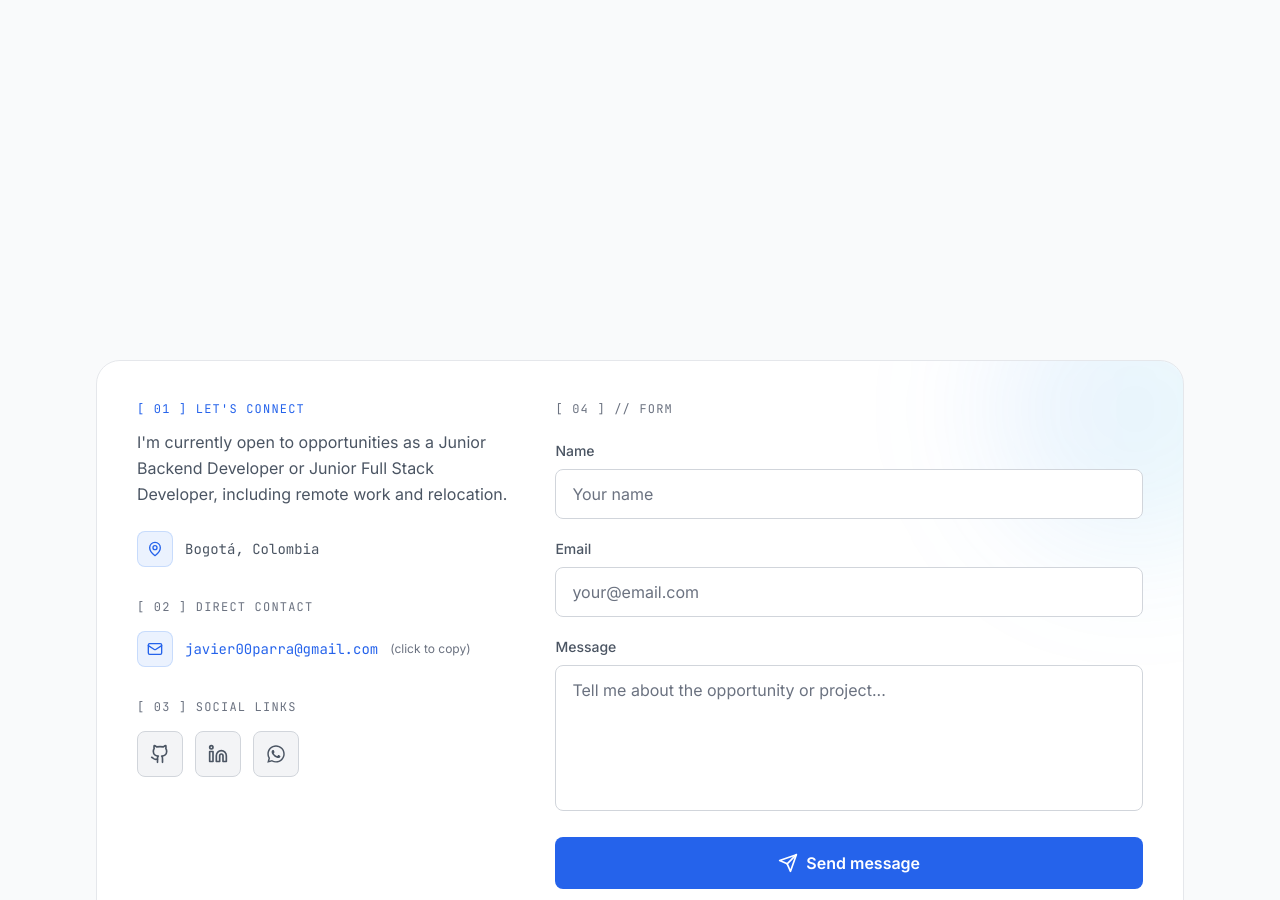
Contact › shows a confirmation state after submitting
Type "Ana" into the field labelled "Name".
click(849, 494); type("Ana")  # box [555,469,1143,519]
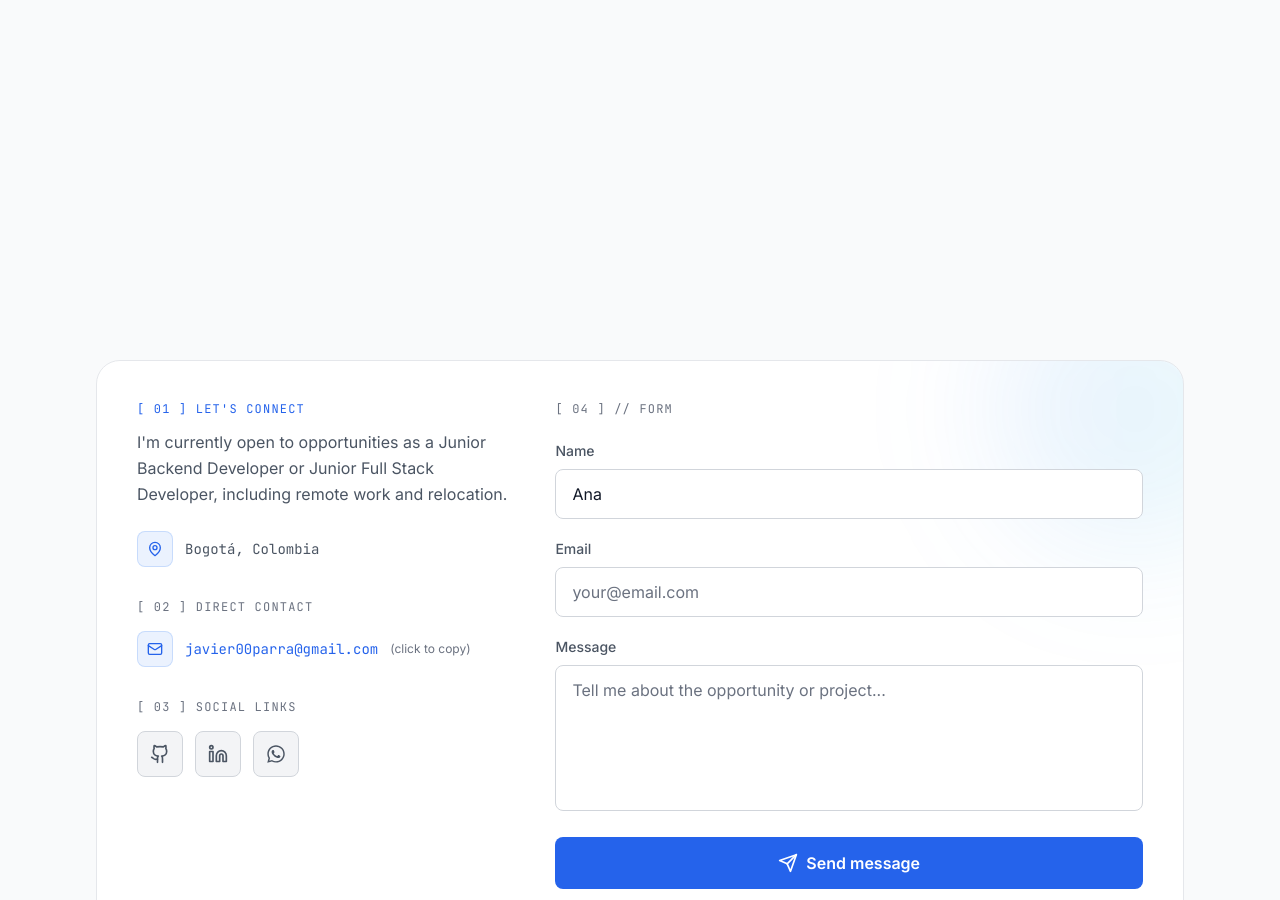
Type "ana@example.com" into the field labelled "Email".
click(849, 592); type("ana@example.com")  # box [555,567,1143,617]
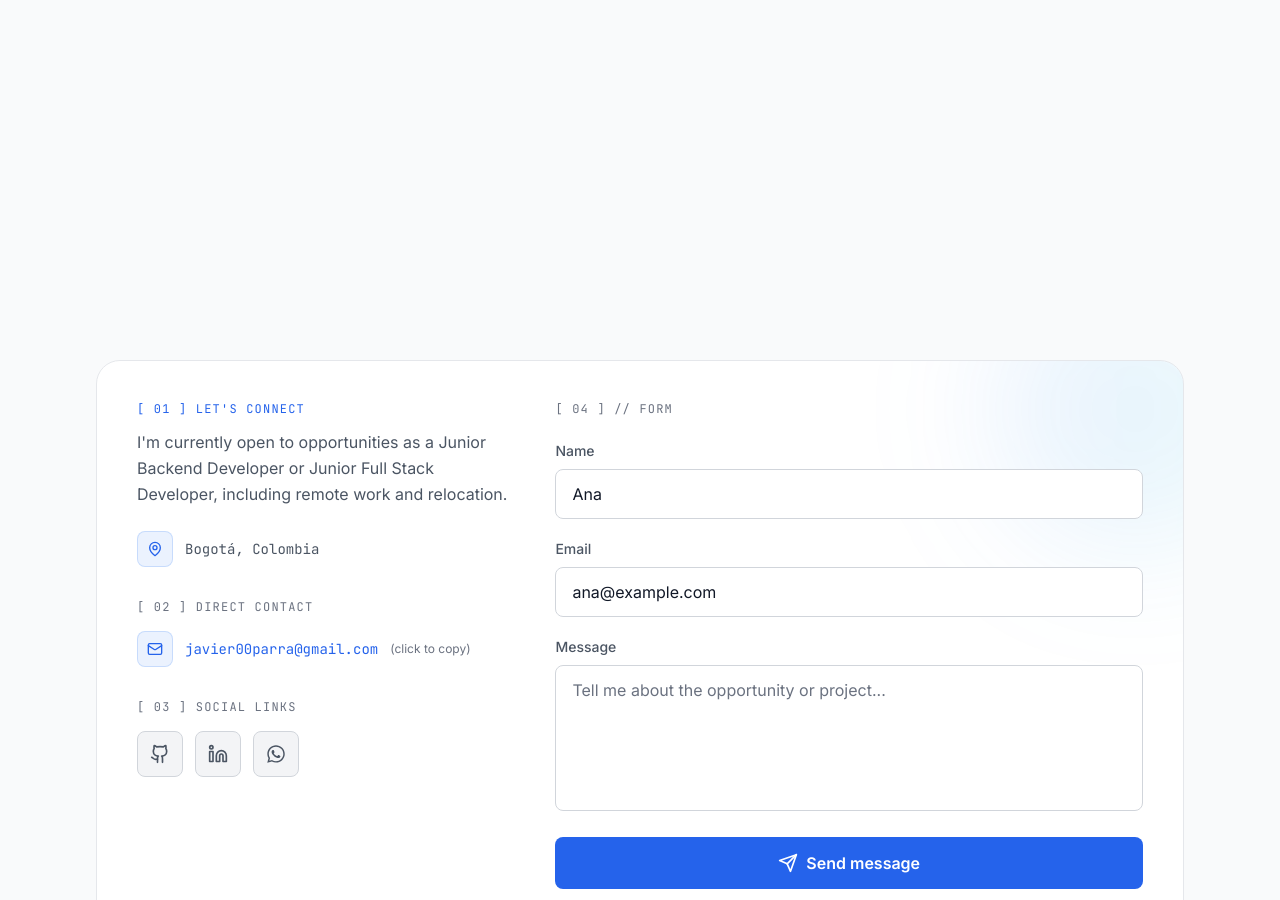
Type "Hola!" into the text box labelled "Message".
click(849, 738); type("Hola!")  # box [555,665,1143,811]
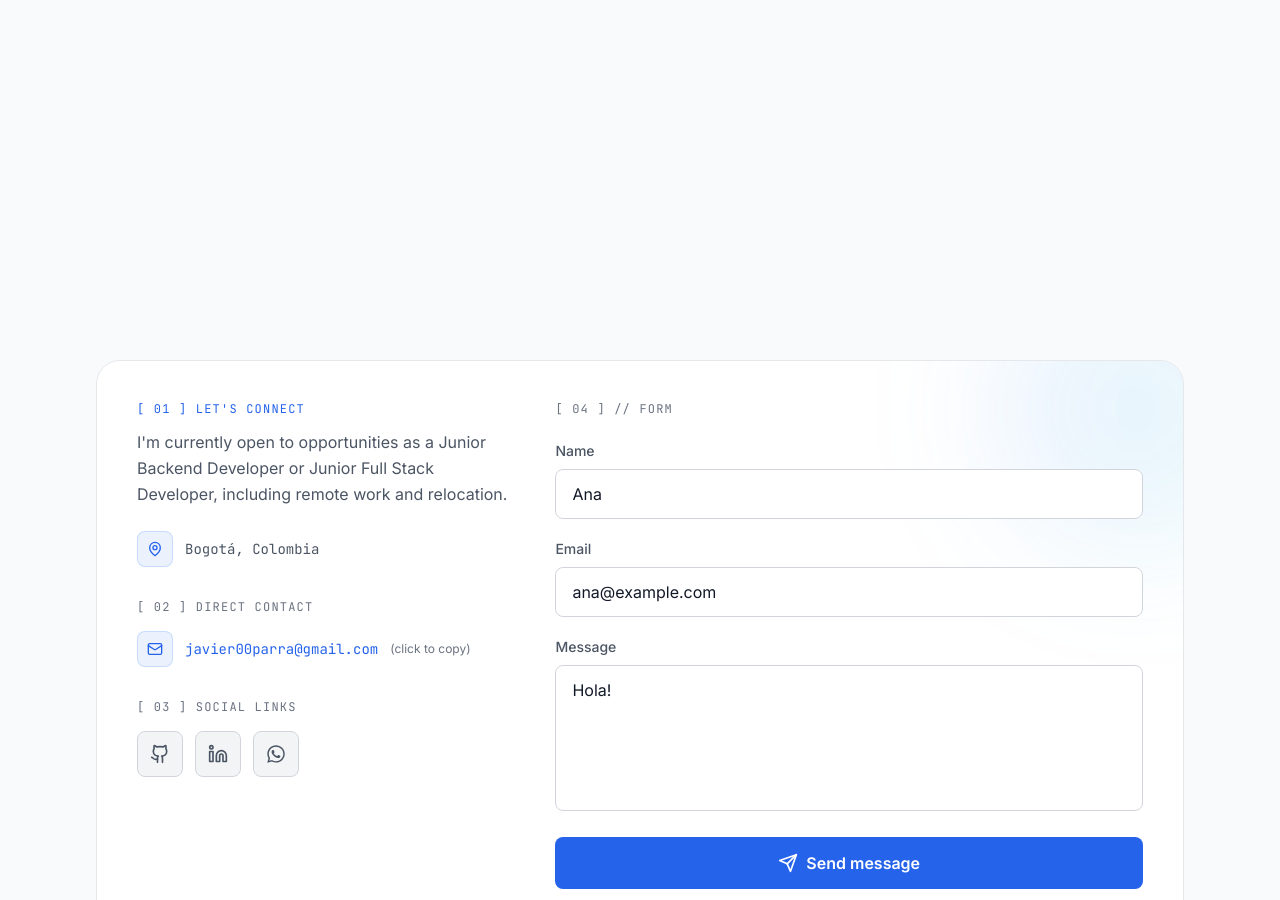
Click the button "Send message".
click(849, 863)  # box [555,837,1143,889]
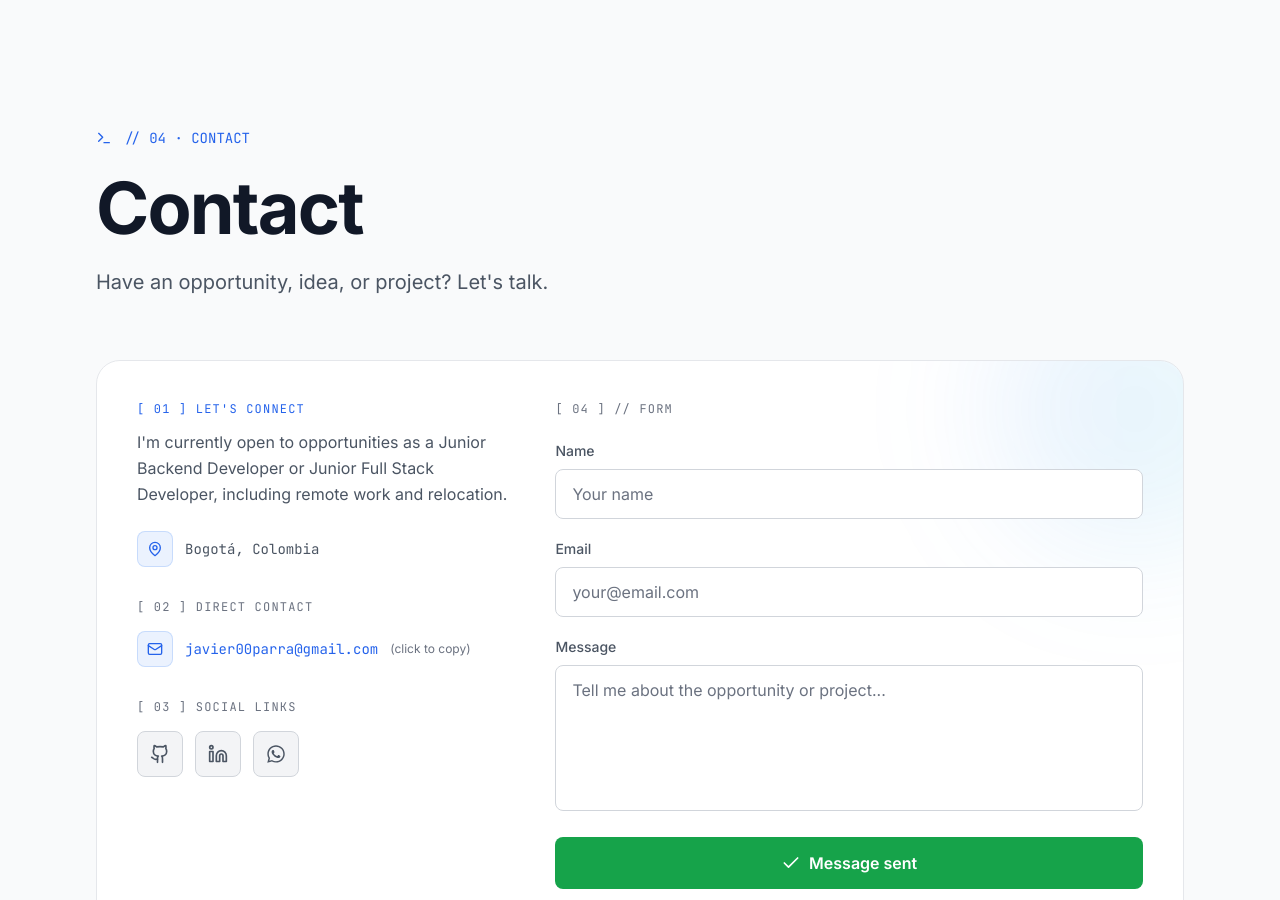
Now the button "Message sent" is shown, box [555,837,1143,889]
